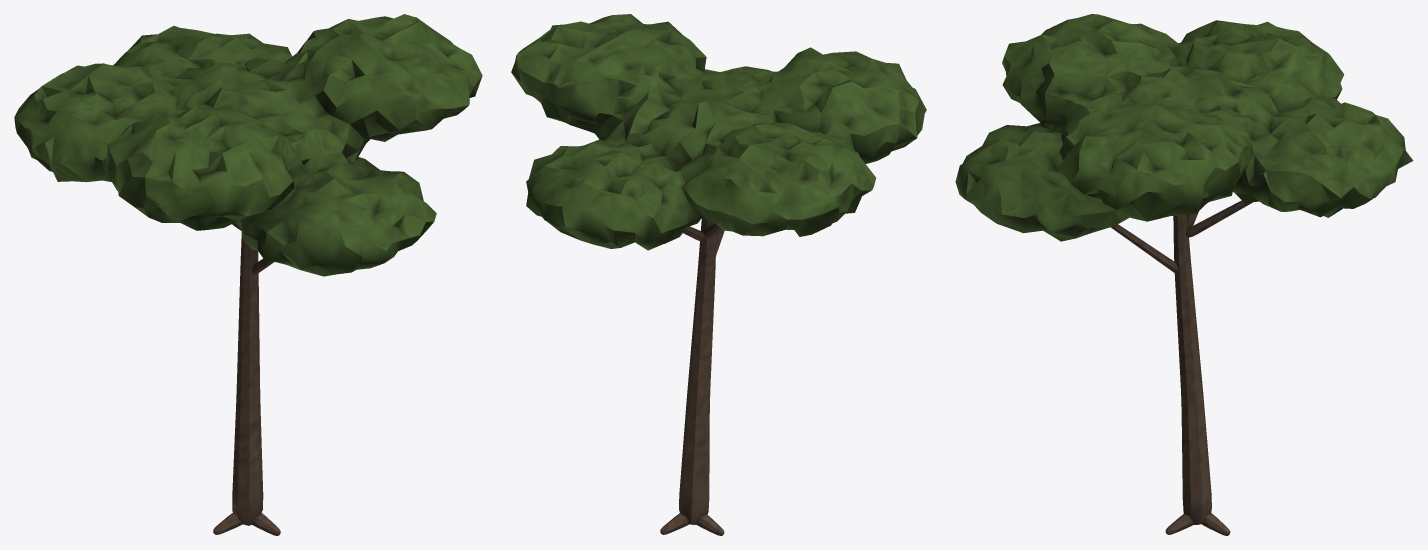
Rendered from costa_pinheiro_b.glb.
3 views of the same model, side by side, from view 1: azimuth 30°, elevation 25°; view 2: azimuth 150°, elevation 25°; view 3: azimuth 270°, elevation 25° (orthographic). The views are drawn at different scales.
Parts seen in each view (by area): view 1: costa_pinheiro_b; view 2: costa_pinheiro_b; view 3: costa_pinheiro_b.
Part boxes in pixels (x1,y1,x2,y2): costa_pinheiro_b: (14,14,482,535); costa_pinheiro_b: (511,14,926,535); costa_pinheiro_b: (955,14,1413,535).
Bounding box in the file's own units: 6.91 × 8.19 × 7.29.
1 material, 1 textured.
